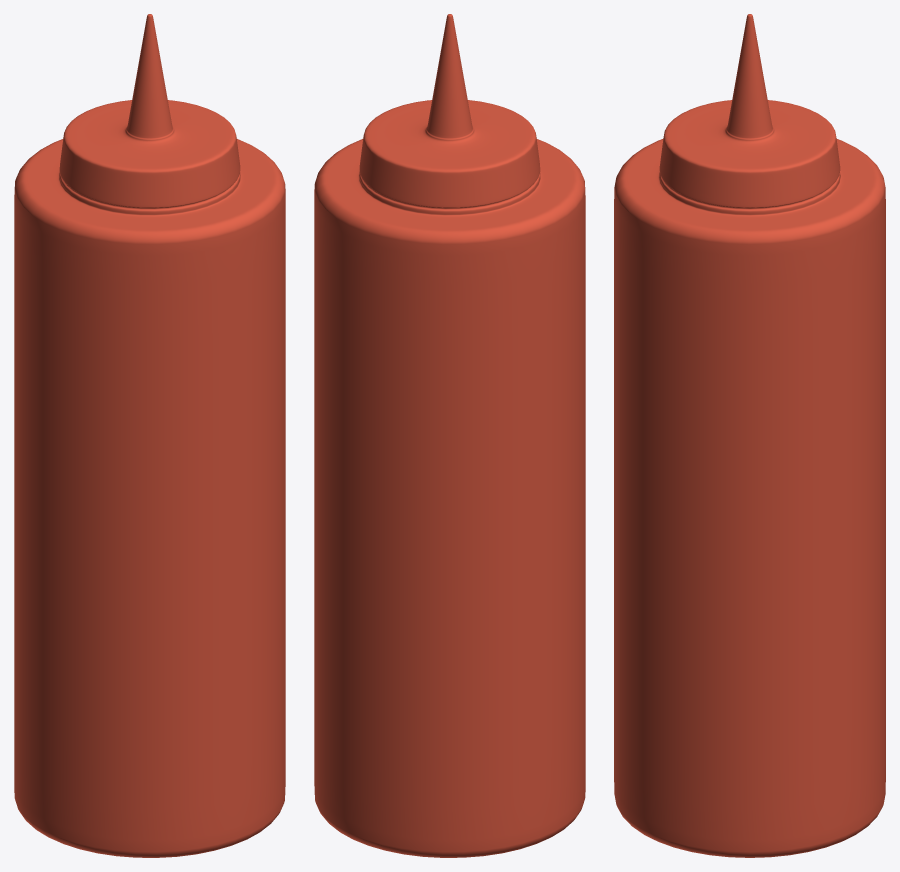
The model's file is ketchup.fbx.
The picture shows the model from 3 angles, left to right: view 1: azimuth 30°, elevation 25°; view 2: azimuth 150°, elevation 25°; view 3: azimuth 270°, elevation 25°; orthographic projection.
Visible parts, largest first — view 1: pCylinder1; view 2: pCylinder1; view 3: pCylinder1.
Part boxes in pixels (x1,y1,x2,y2): pCylinder1: (14, 14, 285, 857); pCylinder1: (314, 14, 585, 857); pCylinder1: (614, 14, 885, 857).
Size of the model in its own units: 6.15 by 19.71 by 6.15.
